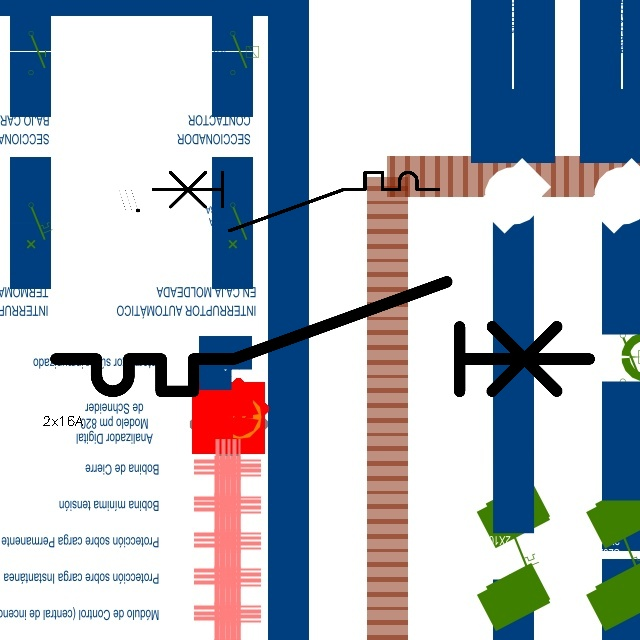interruptor_termomagnetico: (42, 268, 603, 405), (145, 165, 445, 238)
